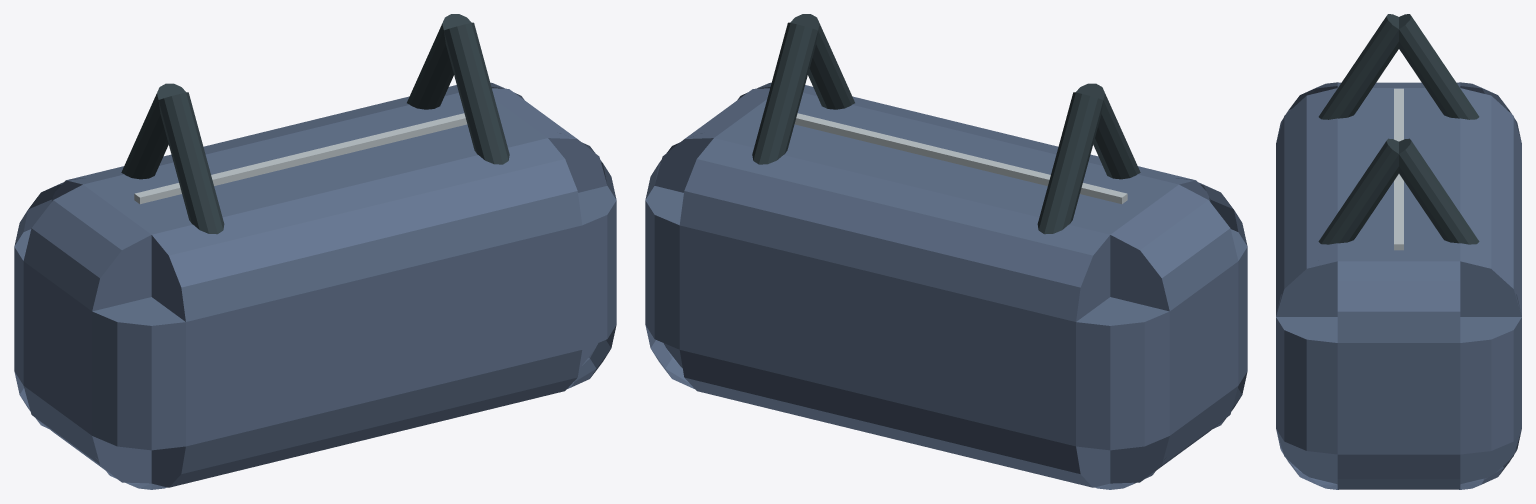
Rendered from basketball-club-and-street-courts-sports-duffel-5c80a427.glb.
The picture shows the model from 3 angles, left to right: view 1: azimuth 30°, elevation 25°; view 2: azimuth 150°, elevation 25°; view 3: azimuth 270°, elevation 25°; orthographic projection. The views are drawn at different scales.
Parts seen in each view (by area): view 1: sports-duffel; view 2: sports-duffel; view 3: sports-duffel.
Part boxes in pixels (left/top/right/bottom): sports-duffel: left=14, top=14, right=616, bottom=489; sports-duffel: left=645, top=14, right=1247, bottom=489; sports-duffel: left=1276, top=14, right=1521, bottom=489.
Bounding box in the file's own units: 0.65 × 0.4294 × 0.3.
